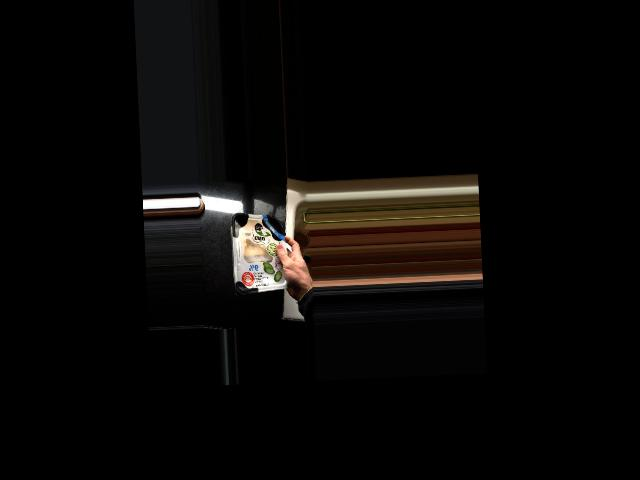cheese: (231, 212, 294, 294)
